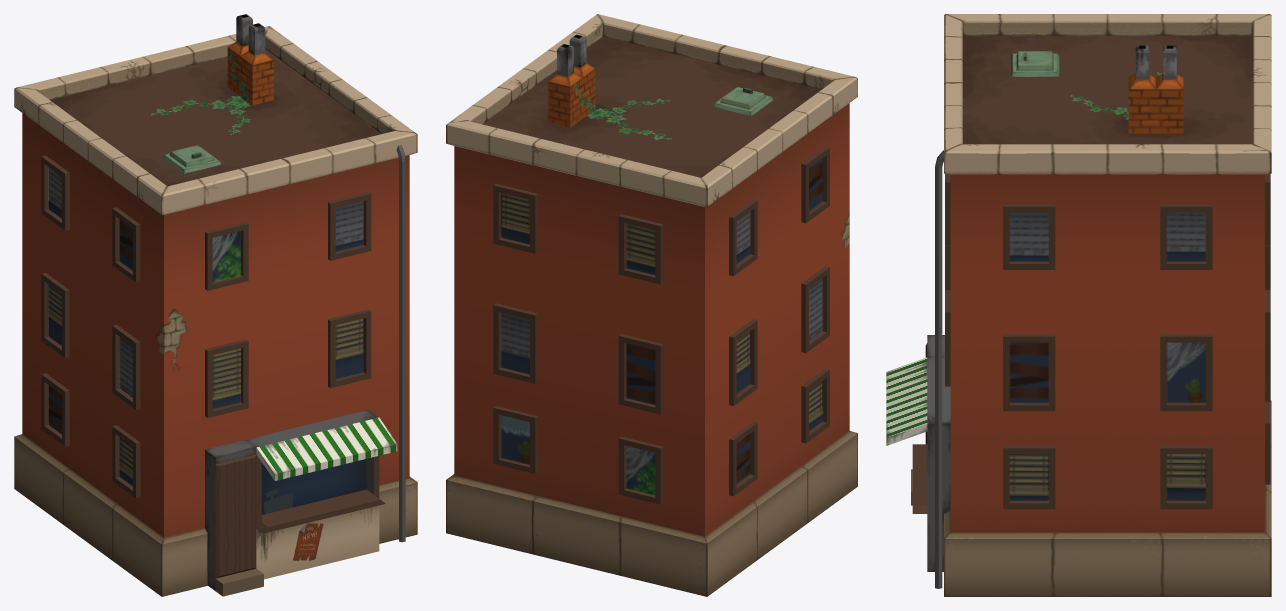
File: env_prop_house_big_01.fbx
3 views of the same model, side by side, from view 1: azimuth 30°, elevation 25°; view 2: azimuth 150°, elevation 25°; view 3: azimuth 270°, elevation 25° (orthographic). The views are drawn at different scales.
Parts seen in each view (by area): view 1: env_prop_house_01, env_prop_rainpipe, env_plant_02; view 2: env_prop_house_01, env_plant_02; view 3: env_prop_house_01, env_prop_rainpipe.
Part boxes in pixels (x1=…): env_prop_house_01: x1=14, y1=14, x2=417, y2=596; env_prop_rainpipe: x1=396, y1=145, x2=405, y2=542; env_plant_02: x1=151, y1=96, x2=247, y2=115; env_prop_house_01: x1=446, y1=14, x2=857, y2=596; env_plant_02: x1=586, y1=108, x2=671, y2=140; env_prop_house_01: x1=886, y1=14, x2=1271, y2=596; env_prop_rainpipe: x1=935, y1=150, x2=943, y2=588.
Size of the model in its own units: 2 by 3.44 by 2.35.
2 materials, 2 textured.
